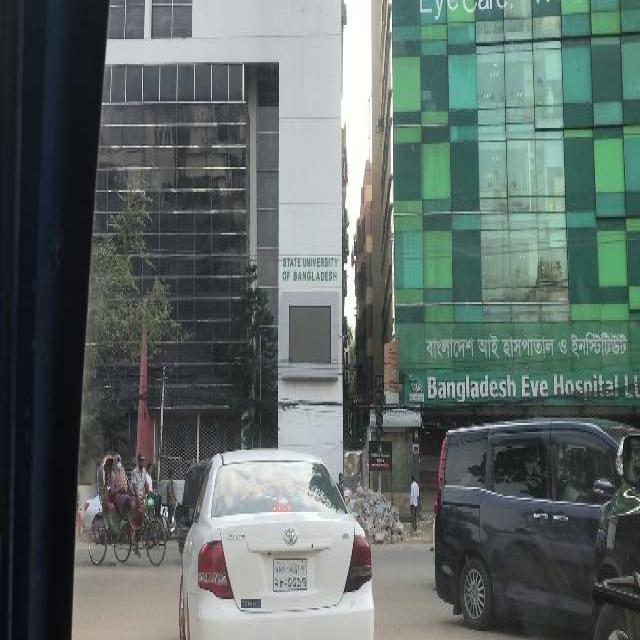vehicle: (434, 423, 637, 640), (176, 452, 375, 638), (90, 451, 166, 565), (176, 457, 207, 548)
